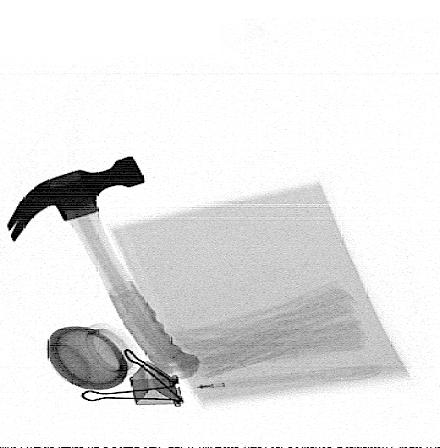Hammer: (6, 155, 201, 382)
